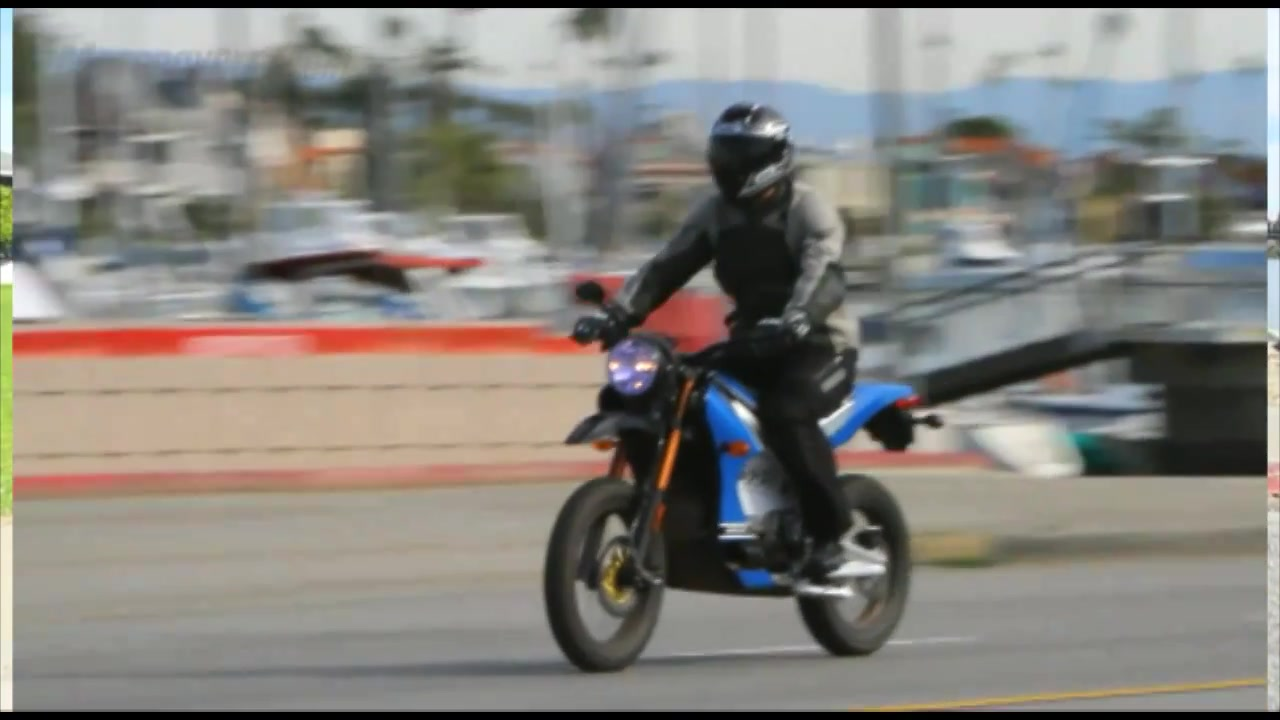motorbike: (542, 284, 946, 674)
